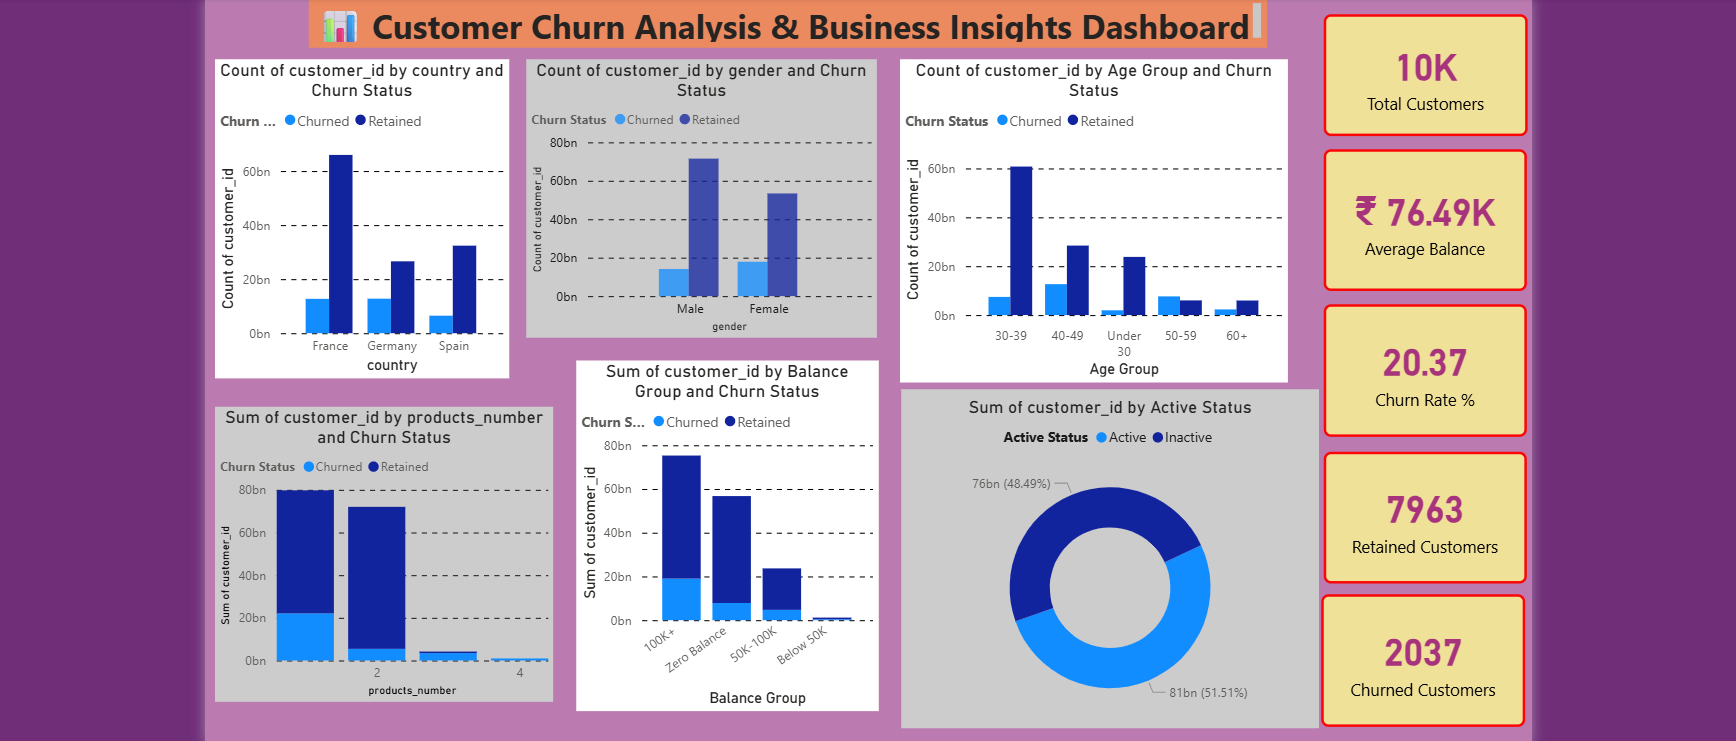

Layout of this report page (visuals, bound fields, positions):
{"tool":"powerbi","page":{"name":"Page 1","canvas":[1280,720],"ordinal":0},"visuals":[{"type":"card","fields":{"Values":["Bank Customer Churn Prediction.Total Customers"]},"box":[1079.8,15.9,196.9,117.4],"z":0},{"type":"card","fields":{"Values":["Bank Customer Churn Prediction.Churned Customers"]},"box":[1077.3,576,196.9,128.4],"z":1},{"type":"card","fields":{"Values":["Bank Customer Churn Prediction.Average Balance"]},"box":[1079.8,145.5,195.7,137],"z":2},{"type":"card","fields":{"Values":["Bank Customer Churn Prediction.Churn Rate %"]},"box":[1079.8,295.9,195.7,128.4],"z":3},{"type":"card","fields":{"Values":["Bank Customer Churn Prediction.Retained Customers"]},"box":[1079.8,437.8,195.7,127.2],"z":4},{"type":"clusteredColumnChart","fields":{"Category":["Bank Customer Churn Prediction.country"],"Series":["Bank Customer Churn Prediction.Churn Status"],"Y":["Sum(Bank Customer Churn Prediction.customer_id)"]},"box":[9.3,59.3,283.7,308.1],"z":5},{"type":"clusteredColumnChart","fields":{"Category":["Bank Customer Churn Prediction.gender"],"Series":["Bank Customer Churn Prediction.Churn Status"],"Y":["Sum(Bank Customer Churn Prediction.customer_id)"]},"box":[310.5,59.3,338.4,268.6],"z":6},{"type":"clusteredColumnChart","fields":{"Category":["Bank Customer Churn Prediction.Age Group"],"Series":["Bank Customer Churn Prediction.Churn Status"],"Y":["Sum(Bank Customer Churn Prediction.customer_id)"]},"box":[670.9,59.3,374.4,311.6],"z":7},{"type":"donutChart","fields":{"Category":["Bank Customer Churn Prediction.Active Status"],"Y":["Sum(Bank Customer Churn Prediction.customer_id)"]},"box":[672,377.9,403.5,327],"z":8},{"type":"columnChart","fields":{"Category":["Bank Customer Churn Prediction.products_number"],"Y":["Sum(Bank Customer Churn Prediction.customer_id)"],"Series":["Bank Customer Churn Prediction.Churn Status"]},"box":[9.3,394.2,326.7,284.9],"z":9},{"type":"columnChart","fields":{"Y":["Sum(Bank Customer Churn Prediction.customer_id)"],"Series":["Bank Customer Churn Prediction.Churn Status"],"Category":["Bank Customer Churn Prediction.Balance Group"]},"box":[357.7,349.7,291.6,338.4],"z":10},{"type":"textbox","box":[100.3,0,924.5,47.7],"z":11}]}

Visuals, with their boxes in screenshot pixels (x1, y1, x2, y2):
card - Bank Customer Churn Prediction.Total Customers: (1318,25,1518,144)
card - Bank Customer Churn Prediction.Churned Customers: (1316,594,1515,724)
card - Bank Customer Churn Prediction.Average Balance: (1318,157,1517,296)
card - Bank Customer Churn Prediction.Churn Rate %: (1318,310,1517,440)
card - Bank Customer Churn Prediction.Retained Customers: (1318,454,1517,583)
clusteredColumnChart - Bank Customer Churn Prediction.country x Bank Customer Churn Prediction.Churn Status: (231,69,519,382)
clusteredColumnChart - Bank Customer Churn Prediction.gender x Bank Customer Churn Prediction.Churn Status: (537,69,880,342)
clusteredColumnChart - Bank Customer Churn Prediction.Age Group x Bank Customer Churn Prediction.Churn Status: (903,69,1283,386)
donutChart - Bank Customer Churn Prediction.Active Status x Sum(Bank Customer Churn Prediction.customer_id): (904,393,1314,725)
columnChart - Bank Customer Churn Prediction.products_number x Sum(Bank Customer Churn Prediction.customer_id): (231,409,563,699)
columnChart - Sum(Bank Customer Churn Prediction.customer_id) x Bank Customer Churn Prediction.Churn Status: (585,364,881,708)
textbox: (323,9,1262,57)
